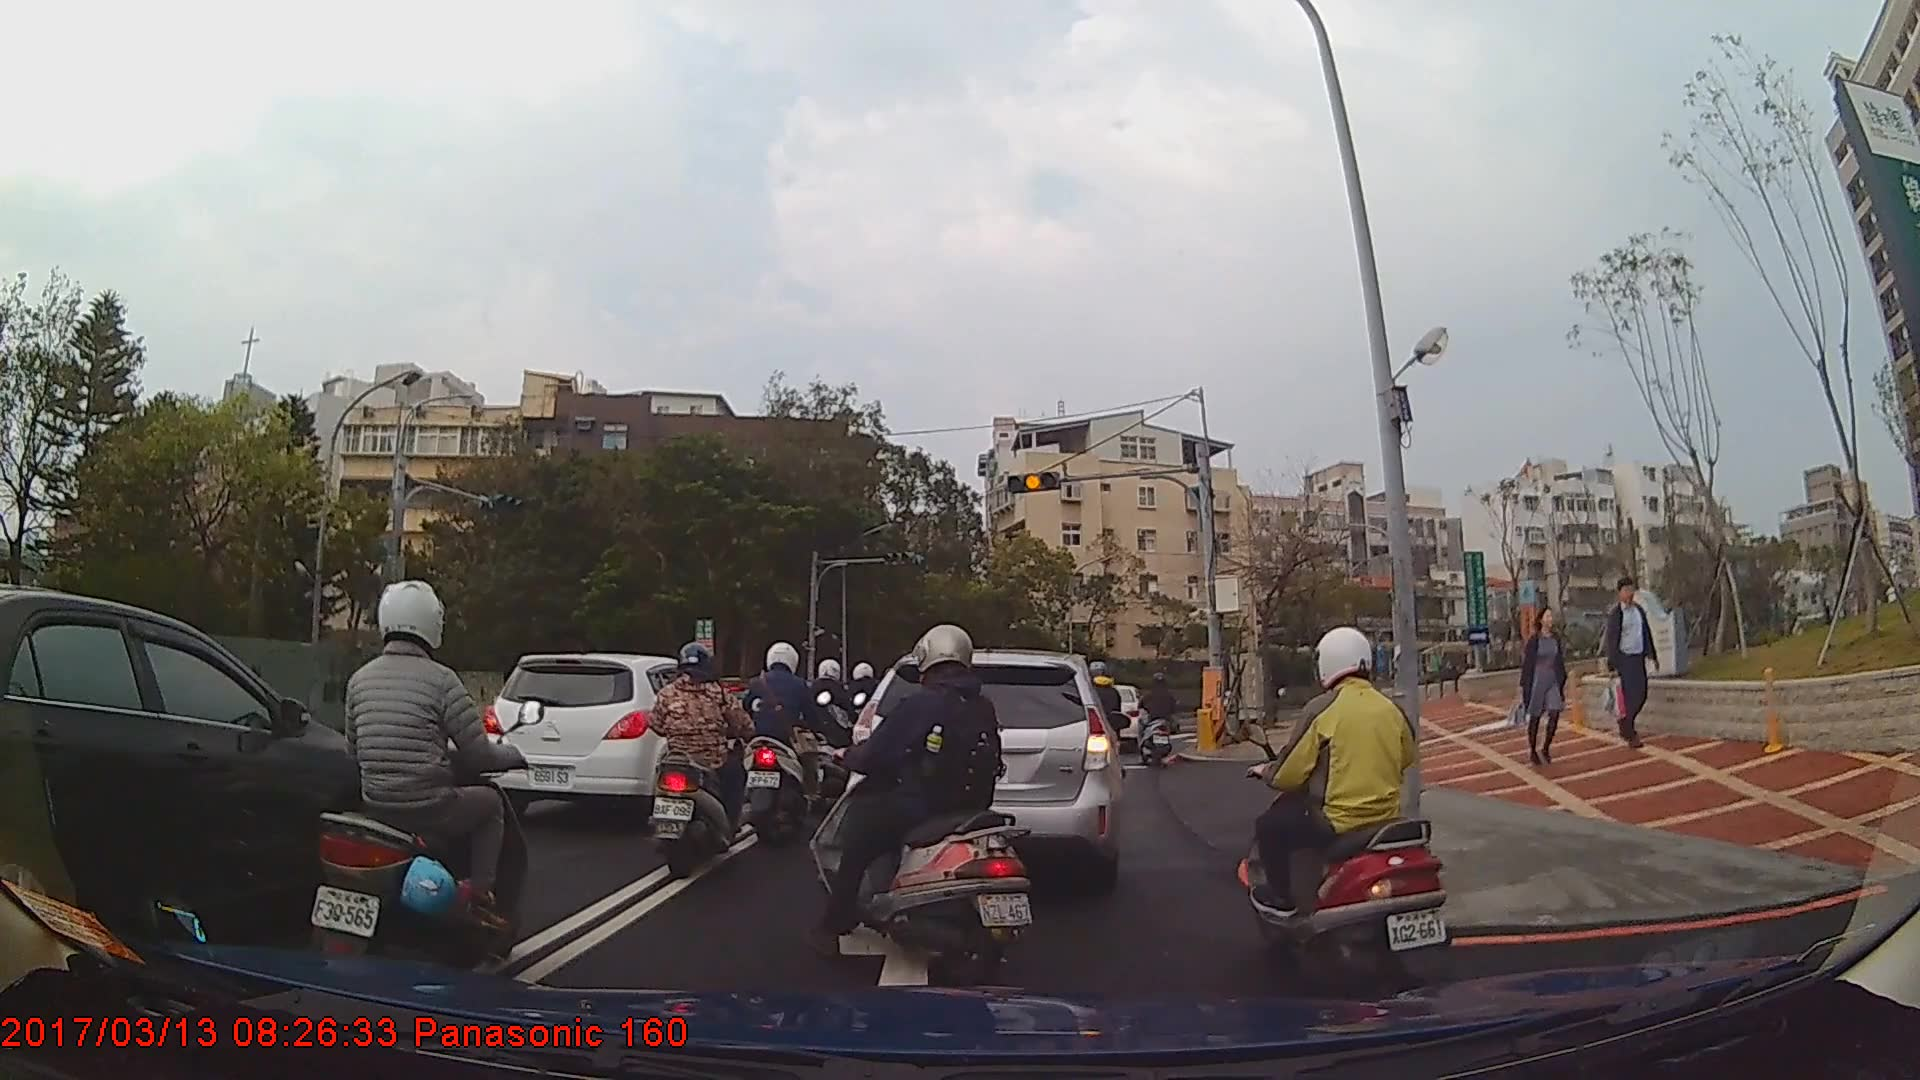pedestrian: (1507, 606, 1574, 773), (1599, 578, 1666, 746)
rider: (305, 577, 535, 996), (808, 623, 1037, 989), (1245, 627, 1459, 1001), (647, 641, 754, 881), (733, 635, 829, 843), (806, 657, 861, 798), (1141, 673, 1179, 761)
vehicle: (0, 582, 406, 954), (846, 645, 1120, 885), (481, 650, 747, 823)
